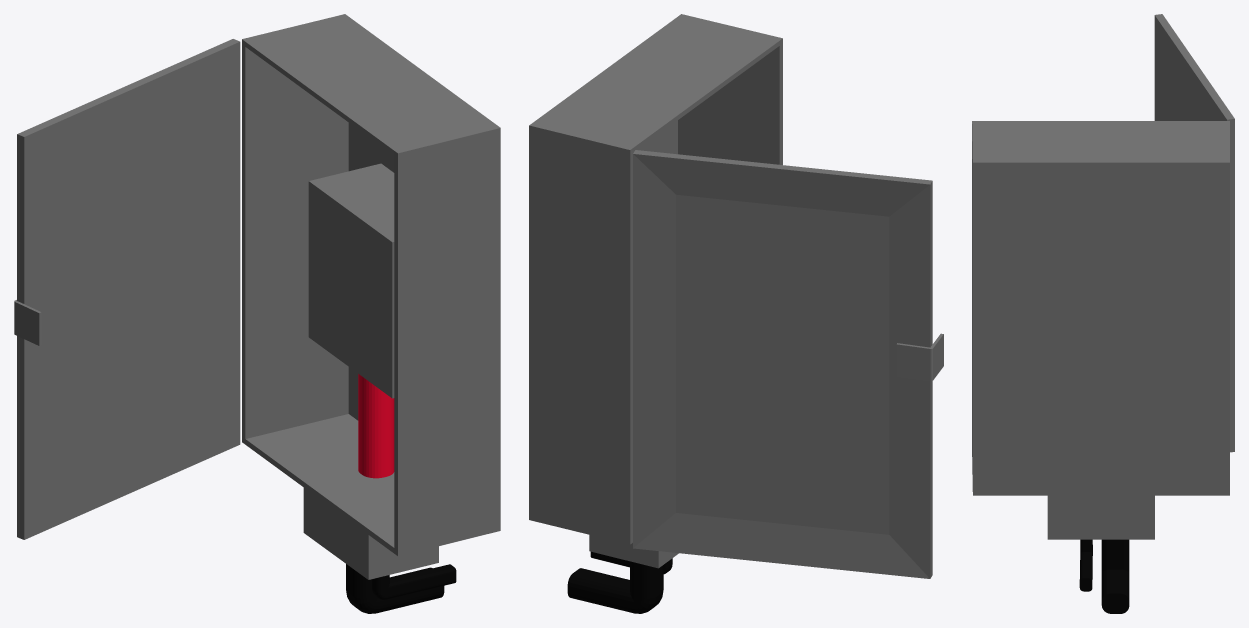
Rendered from electricalboxnew.fbx.
3 renders of one model, left to right at view 1: azimuth 30°, elevation 25°; view 2: azimuth 150°, elevation 25°; view 3: azimuth 270°, elevation 25°, orthographic. The views are drawn at different scales.
Parts seen in each view (by area): view 1: ElectricalBox, ElectricalBoxDoor; view 2: ElectricalBoxDoor, ElectricalBox; view 3: ElectricalBox, ElectricalBoxDoor.
Part boxes in pixels (bbox=[...]): ElectricalBox: bbox=[242, 14, 500, 613]; ElectricalBoxDoor: bbox=[14, 39, 240, 539]; ElectricalBoxDoor: bbox=[633, 150, 943, 578]; ElectricalBox: bbox=[529, 14, 782, 613]; ElectricalBox: bbox=[972, 121, 1229, 613]; ElectricalBoxDoor: bbox=[1154, 14, 1234, 452].
Bounding box in the file's own units: 72.02 × 103 × 134.
